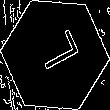L_SW: (28, 30, 82, 80)
